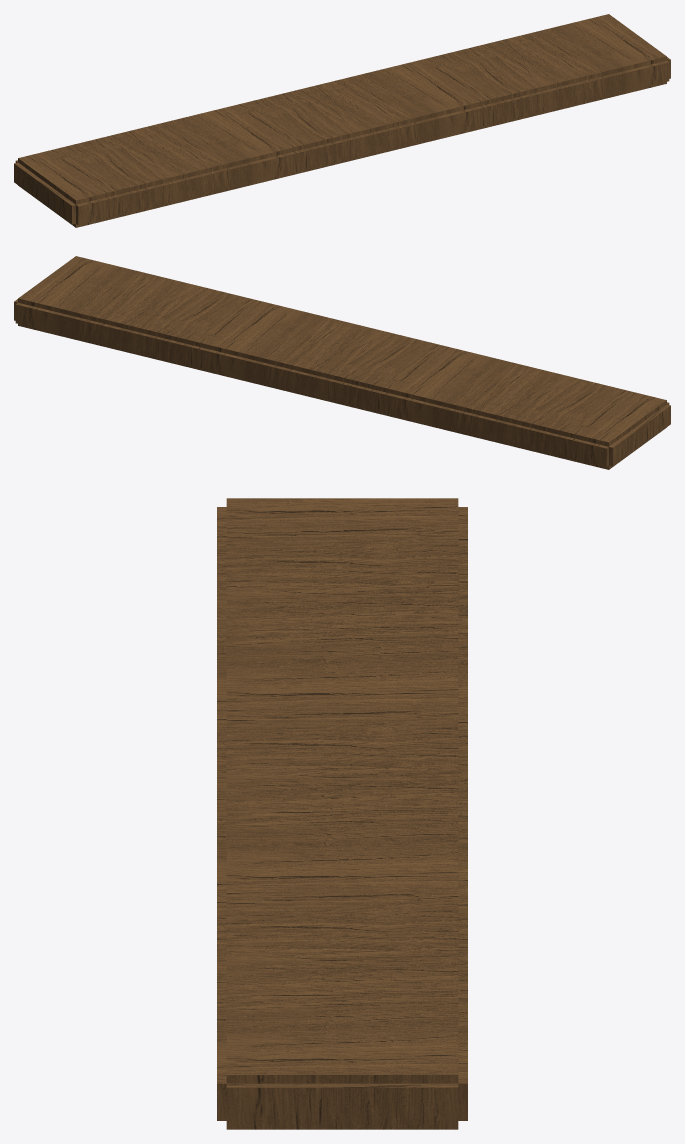
Rendered from finish_v25_book_linear.glb.
3 views of the same model, one above another, from view 1: azimuth 30°, elevation 25°; view 2: azimuth 150°, elevation 25°; view 3: azimuth 270°, elevation 25° (orthographic). The views are drawn at different scales.
Visible parts, largest first — view 1: finish_v25_book_linear_CC0_Oak_veneer; view 2: finish_v25_book_linear_CC0_Oak_veneer; view 3: finish_v25_book_linear_CC0_Oak_veneer.
Boxes of the visible parts, x1,y1,x2,y2 form: finish_v25_book_linear_CC0_Oak_veneer: (14,14,670,227); finish_v25_book_linear_CC0_Oak_veneer: (14,256,670,469); finish_v25_book_linear_CC0_Oak_veneer: (217,498,467,1129).
Bounding box in the file's own units: 3.2 × 0.1555 × 0.58.
2 materials, 1 textured.
